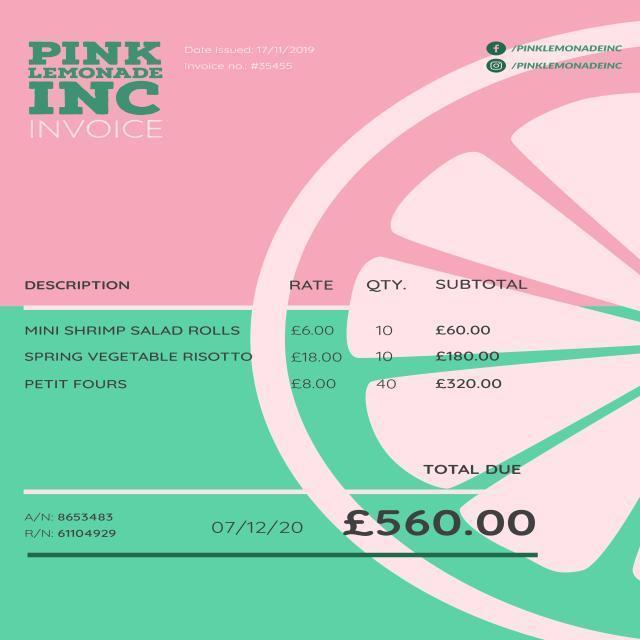ROI: (14, 275, 525, 400), (340, 440, 539, 552), (24, 39, 168, 144), (485, 37, 627, 75), (183, 42, 320, 78), (22, 509, 126, 543), (206, 513, 313, 542)
